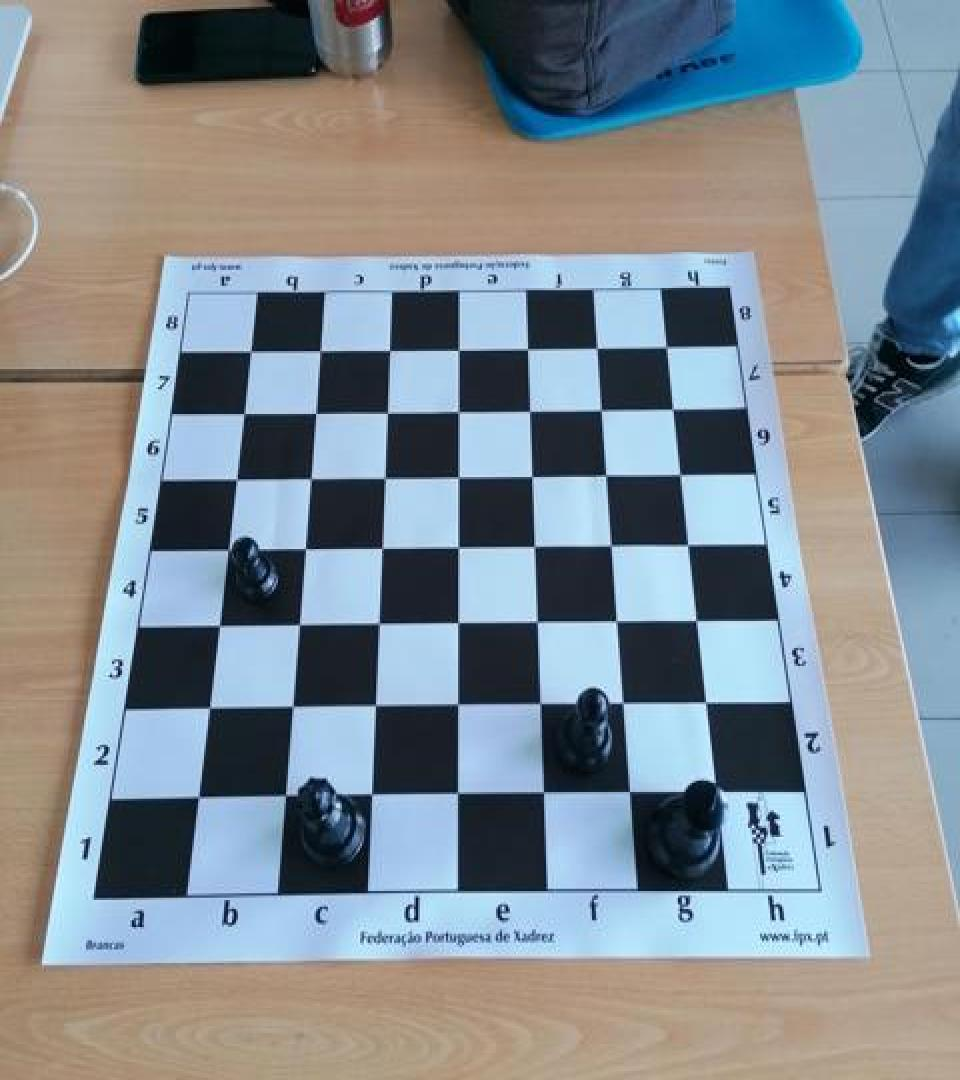xcorner: (228, 399, 258, 433), (212, 536, 242, 570), (203, 613, 233, 647), (194, 695, 224, 729), (183, 784, 213, 818), (305, 336, 335, 370), (300, 398, 330, 432), (289, 536, 319, 570), (283, 612, 313, 646), (277, 694, 307, 728), (270, 783, 300, 817), (374, 335, 404, 369), (372, 397, 402, 431), (369, 464, 399, 498), (366, 534, 396, 568), (363, 611, 393, 645), (360, 693, 390, 727), (356, 782, 386, 816), (444, 333, 474, 367), (444, 396, 474, 430), (443, 462, 473, 496), (443, 533, 473, 567), (443, 610, 473, 644), (443, 692, 473, 726), (442, 780, 472, 814), (514, 332, 544, 366), (516, 394, 546, 428), (518, 460, 548, 494), (521, 532, 551, 566), (526, 690, 556, 724), (529, 780, 559, 814), (583, 330, 613, 364), (588, 392, 618, 426), (593, 459, 623, 493), (598, 531, 628, 565), (604, 608, 634, 642), (610, 690, 640, 724), (616, 778, 646, 812), (654, 330, 684, 364), (660, 392, 690, 426), (668, 458, 698, 492), (676, 528, 706, 562), (684, 606, 714, 640), (703, 777, 733, 811), (235, 338, 265, 371), (220, 466, 250, 499), (294, 465, 324, 498), (523, 609, 553, 642), (693, 689, 723, 722)
